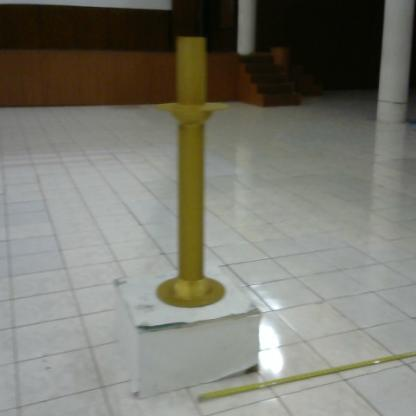pole: (151, 33, 233, 316)
